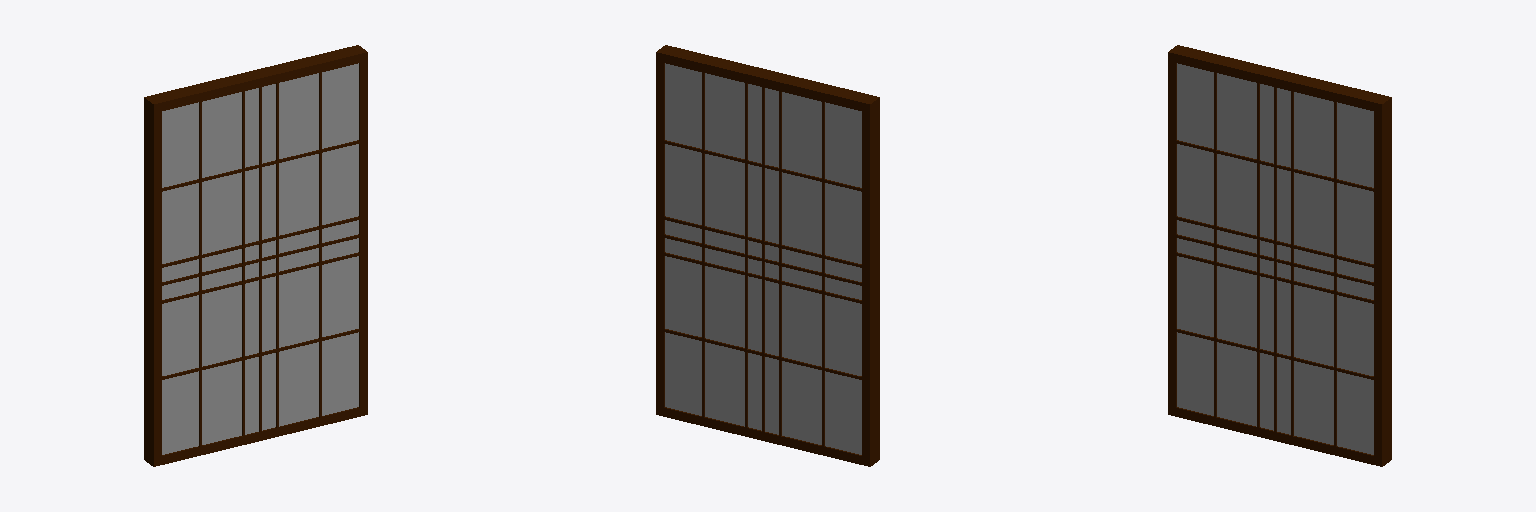
Rendered from door-game2.obj.
3 renders of one model, left to right at view 1: azimuth 30°, elevation 25°; view 2: azimuth 150°, elevation 25°; view 3: azimuth 330°, elevation 25°, orthographic.
Parts seen in each view (by area): view 1: Cube.014; view 2: Cube.014; view 3: Cube.014.
Boxes of the visible parts, x1,y1,x2,y2 form: Cube.014: [144, 45, 367, 466]; Cube.014: [656, 45, 879, 466]; Cube.014: [1168, 45, 1391, 466].
Size of the model in its own units: 5 by 8.08 by 0.4.